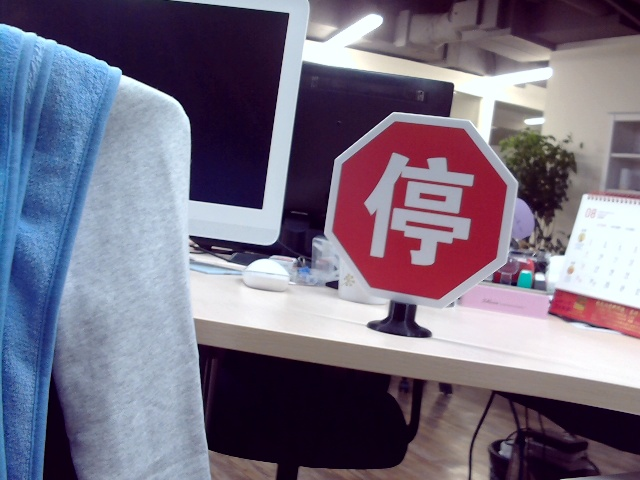stop: (362, 145, 472, 265)
